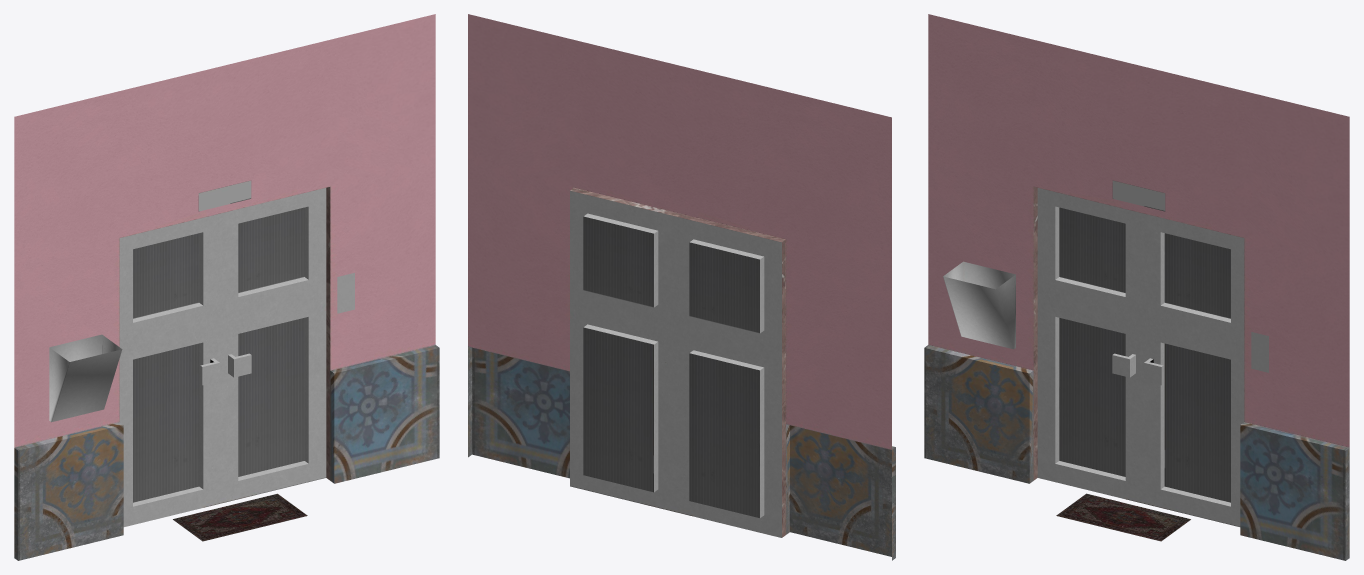
File: Building A Door A.fbx
The picture shows the model from 3 angles, left to right: view 1: azimuth 30°, elevation 25°; view 2: azimuth 150°, elevation 25°; view 3: azimuth 330°, elevation 25°; orthographic projection.
Parts seen in each view (by area): view 1: Building A Door A (2, Baked); view 2: Building A Door A (2, Baked); view 3: Building A Door A (2, Baked).
Part boxes in pixels (x1,y1,x2,y2): Building A Door A (2, Baked): (14,14,439,560); Building A Door A (2, Baked): (468,14,895,560); Building A Door A (2, Baked): (924,14,1349,560).
Bounding box in the file's own units: 300 × 300 × 47.5.
